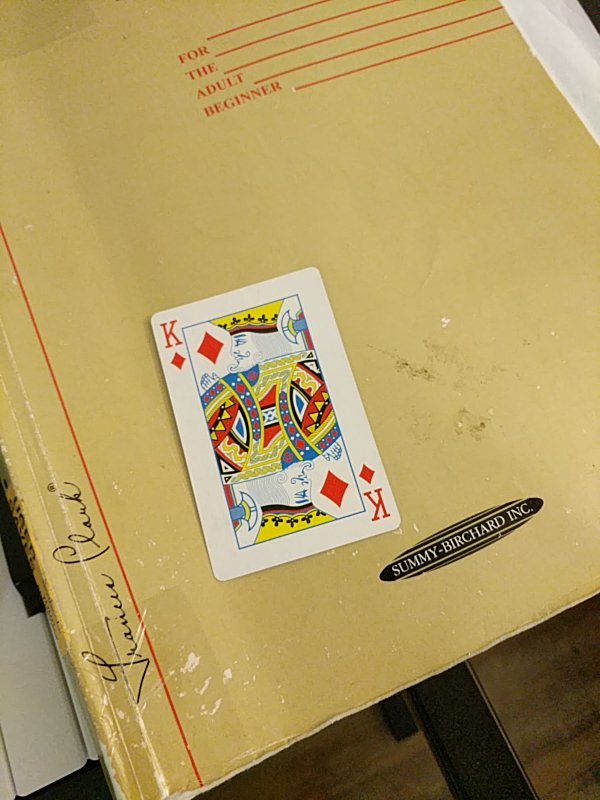Diamonds: (148, 266, 405, 583)
